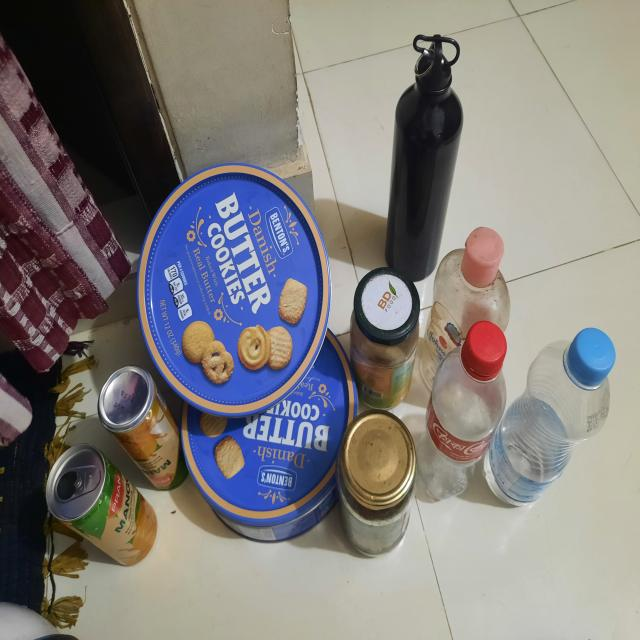Plastics: (430, 228, 623, 525)
can: (147, 156, 340, 532), (350, 27, 432, 523), (39, 367, 176, 555)
